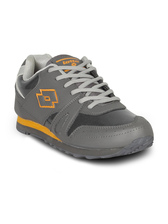shoes: (13, 51, 157, 162)
